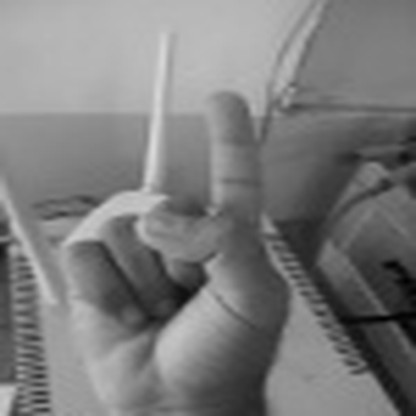d: (56, 84, 280, 416)
